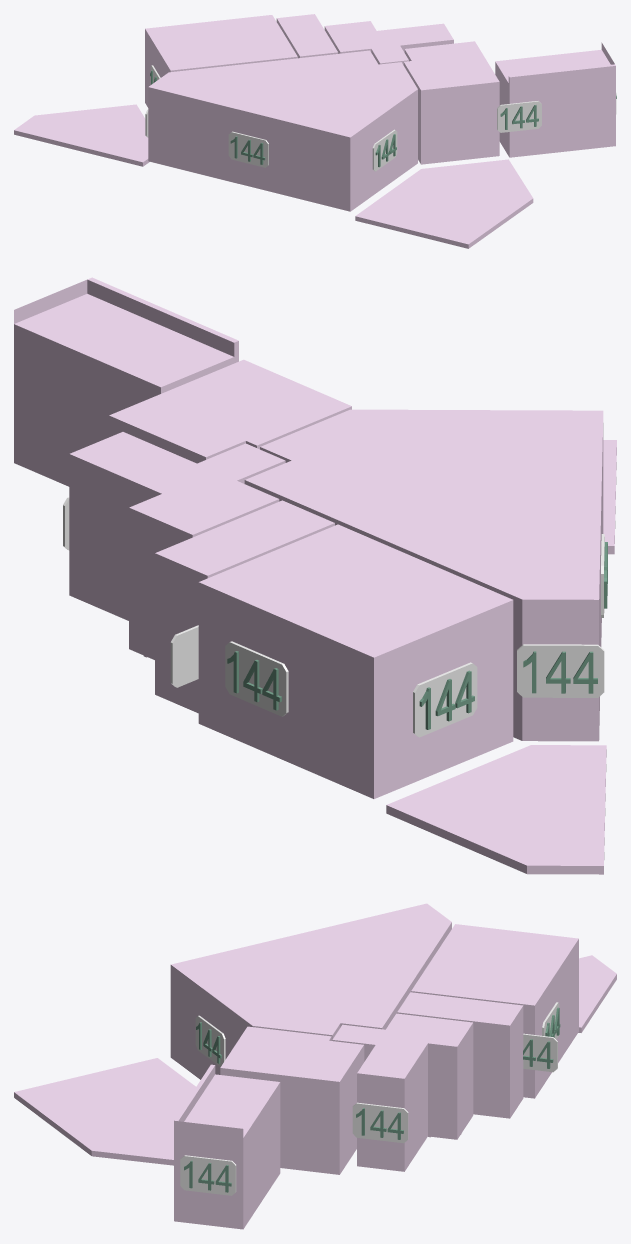
The picture shows the model from 3 angles, top to bottom: view 1: azimuth 30°, elevation 25°; view 2: azimuth 150°, elevation 25°; view 3: azimuth 270°, elevation 25°; orthographic projection. The views are drawn at different scales.
Parts seen in each view (by area): view 1: g_0, g_5, g_7, g_4, g_1, g_6, g_3, g_2, g_43, g_35, g_39; view 2: g_1, g_0, g_5, g_3, g_6, g_4, g_2, g_11, g_19, g_31, g_15, g_7; view 3: g_0, g_3, g_4, g_1, g_5, g_7, g_2, g_6, g_23, g_27, g_15, g_39.
Boxes of the visible parts, box(x1,y1,x2,y2) form: g_0: box(148, 50, 417, 211); g_5: box(495, 42, 615, 157); g_7: box(355, 159, 533, 248); g_4: box(403, 41, 499, 164); g_1: box(145, 15, 297, 107); g_6: box(14, 104, 149, 166); g_3: box(324, 21, 453, 64); g_2: box(276, 14, 338, 58); g_43: box(497, 101, 541, 132); g_35: box(228, 131, 268, 167); g_39: box(372, 129, 397, 171); g_1: box(198, 524, 513, 798); g_0: box(244, 409, 603, 741); g_5: box(14, 277, 238, 486); g_3: box(69, 432, 285, 659); g_6: box(386, 745, 606, 874); g_4: box(109, 359, 351, 463); g_2: box(155, 500, 334, 713); g_11: box(517, 644, 604, 697); g_19: box(225, 641, 288, 716); g_31: box(413, 662, 477, 737); g_15: box(170, 625, 198, 687); g_7: box(603, 440, 616, 554); g_0: box(170, 903, 451, 1079); g_3: box(332, 1013, 473, 1171); g_4: box(220, 1026, 364, 1174); g_1: box(411, 924, 578, 1098); g_5: box(174, 1064, 280, 1229); g_7: box(14, 1058, 195, 1165); g_2: box(397, 992, 523, 1118); g_6: box(578, 955, 616, 1032); g_23: box(180, 1155, 236, 1195); g_27: box(352, 1102, 408, 1143); g_15: box(523, 1033, 557, 1072); g_39: box(195, 1015, 225, 1066).
Size of the model in its own units: 15.8 by 2.85 by 14.65.
